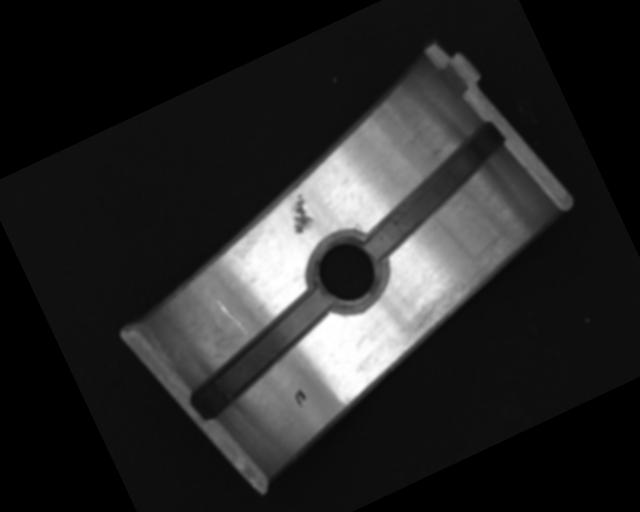blot: (291, 387, 310, 409)
bruise: (280, 190, 319, 236)
gap: (341, 120, 526, 261), (172, 287, 350, 420)
hole: (299, 222, 397, 323)
nick: (213, 293, 249, 343)
scratch: (376, 225, 542, 353)
